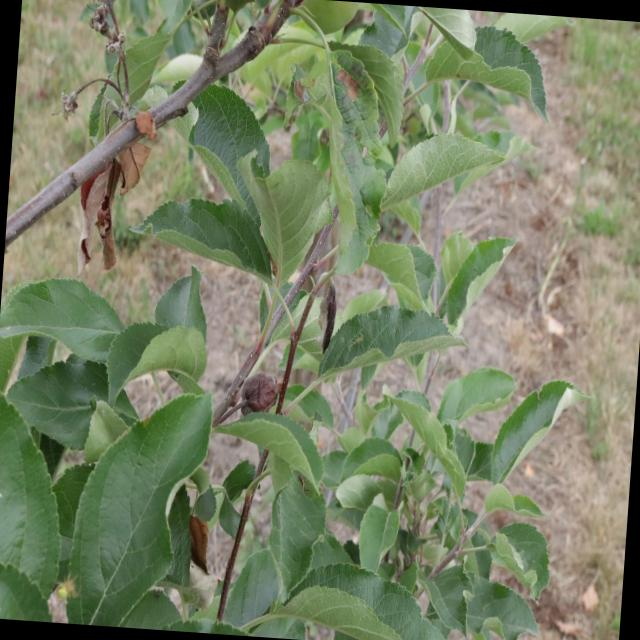-FireBlight-: (54, 110, 142, 272)
